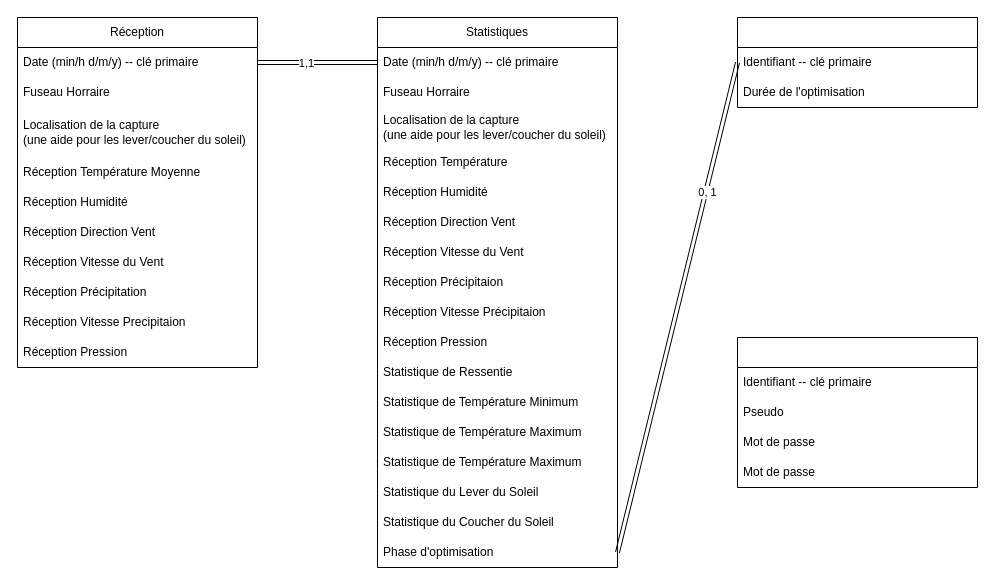
Image size: 995x585. Some labels were removed from this diagram. Here are the shapes that lost their labels. From the top down, the box of each, then its label:
(736, 16, 978, 108): Optimisation temps
(736, 336, 978, 488): Administrateurs
